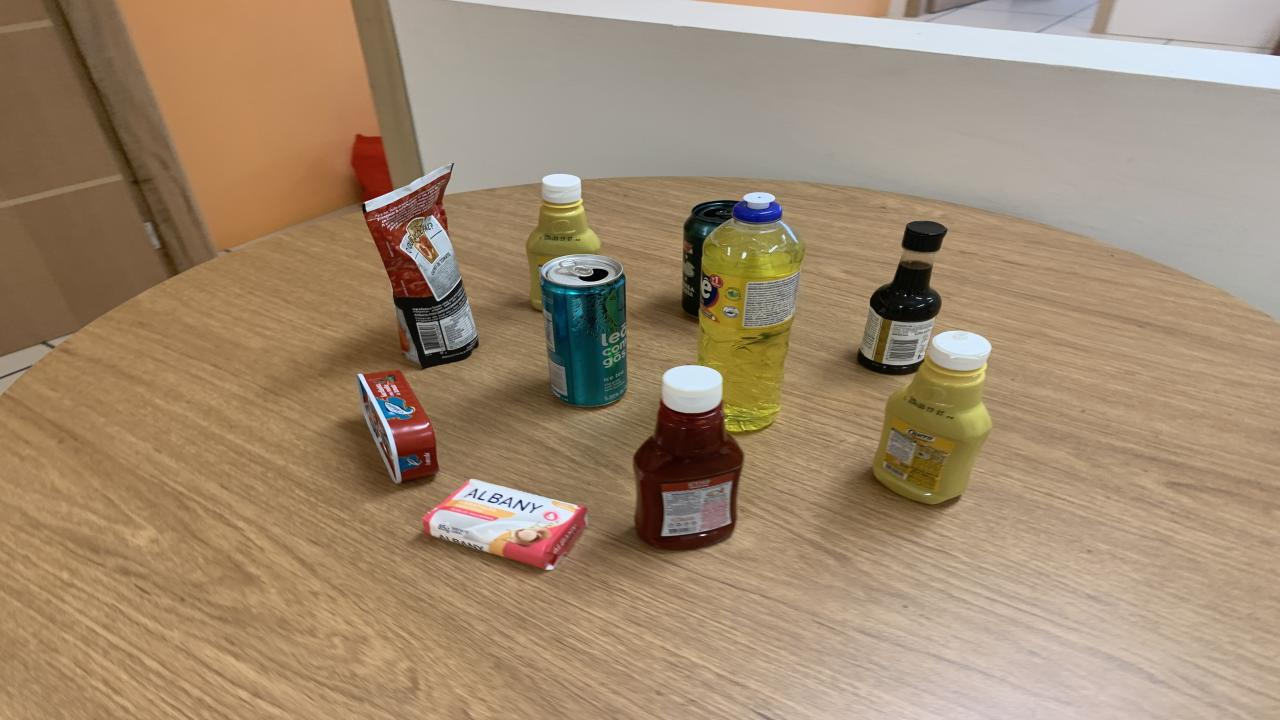Detergent-Cleanup_Items: (698, 191, 805, 431)
English_Sauce-Pantry_Items: (858, 221, 948, 375)
Guarana_Can-Drinks: (682, 201, 738, 317)
Ketchup-Pantry_Items: (635, 366, 742, 549)
Mustard-Pantry_Items: (872, 332, 992, 504), (525, 174, 600, 309)
Soap-Cleanup_Items: (422, 480, 588, 570)
Tea-Drinks: (540, 255, 628, 407)
Tomato_Sauce-Pantry_Items: (362, 165, 478, 368)
Tuna_Can-Pantry_Items: (358, 371, 438, 484)
